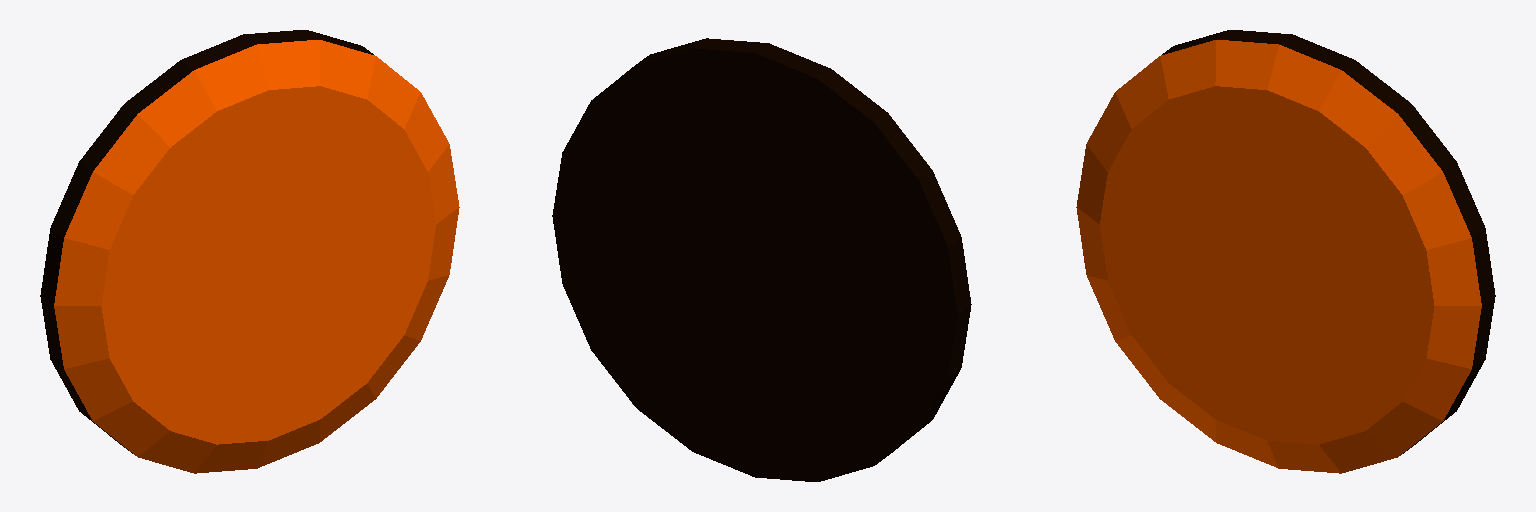
3 renders of one model, left to right at view 1: azimuth 30°, elevation 25°; view 2: azimuth 150°, elevation 25°; view 3: azimuth 330°, elevation 25°, orthographic.
Visible parts, largest first — view 1: target_Cylinder; view 2: target_Cylinder; view 3: target_Cylinder.
Part boxes in pixels (x1,y1,x2,y2): target_Cylinder: (40,30,459,473); target_Cylinder: (552,38,971,481); target_Cylinder: (1076,30,1495,473).
Size of the model in its own units: 3 by 3 by 0.3296.
1 materials, 1 textured.